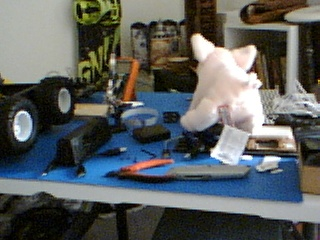piggy: (178, 31, 265, 134)
